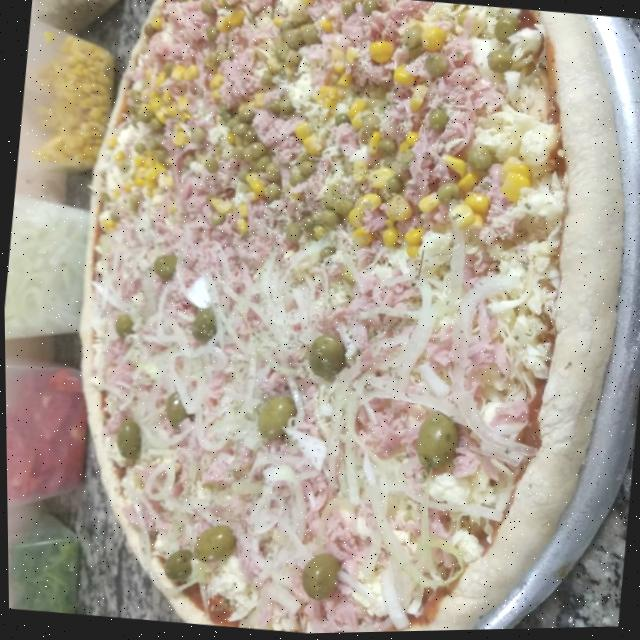green_olives: (408, 411, 462, 472), (296, 550, 342, 602), (189, 521, 237, 566), (254, 391, 295, 442), (304, 333, 346, 382), (159, 544, 191, 583), (112, 419, 143, 459), (161, 393, 188, 430), (188, 307, 215, 342), (112, 308, 135, 342), (150, 253, 178, 280)
pizza: (46, 0, 640, 639)
